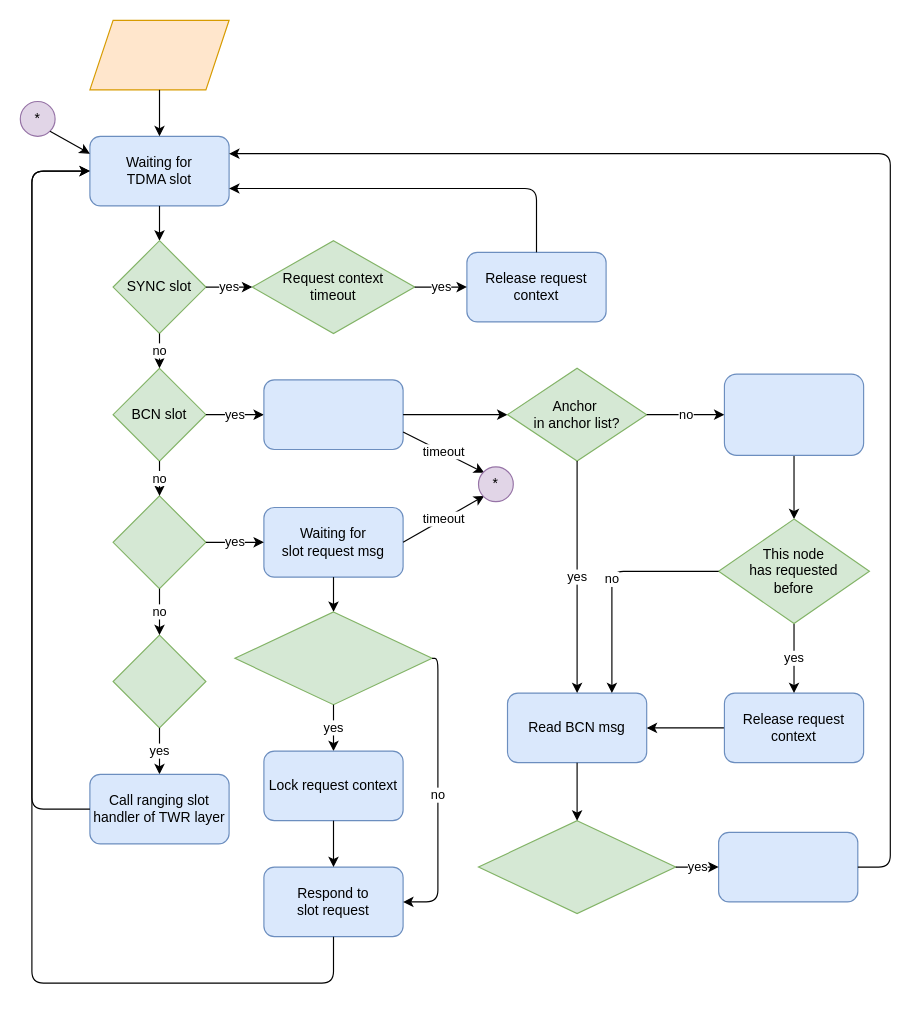
Some shapes in this 920 by 1013 pixel diagram are drawn without their labels. The shapes that lost their labels are listed below. From the top down, each one's box as (x1, y1, x2, y2) in pixels, then its label:
(89, 19, 229, 90): JOINT state start
(263, 379, 403, 449): Waiting for BCN msg
(723, 373, 864, 455): Add node to anchor list
(112, 495, 206, 589): SVC slot
(234, 611, 432, 705): I am anchor and I accept slot request
(112, 634, 206, 728): Ranging slot
(477, 820, 676, 913): Location msg || Slot map msg
(717, 831, 858, 902): Update node infomation
